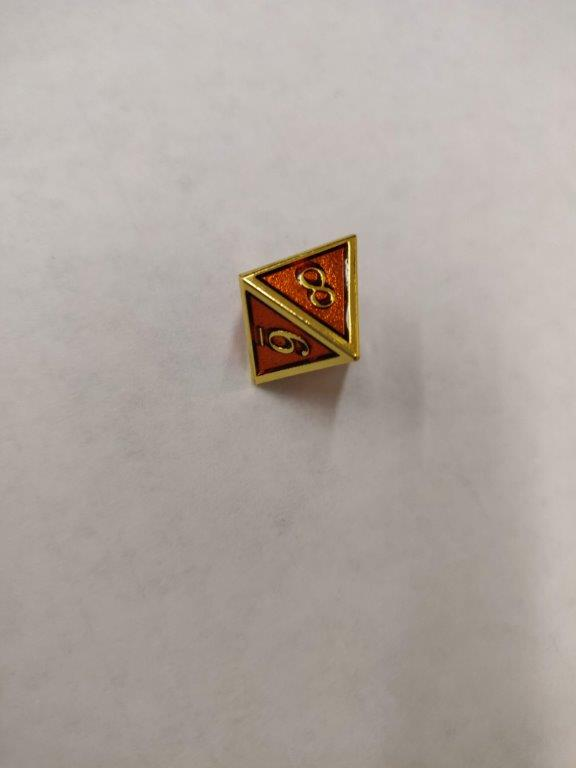d8-8: (236, 232, 362, 395)
